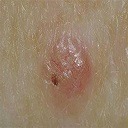Melanoma: (45, 37, 90, 87)
